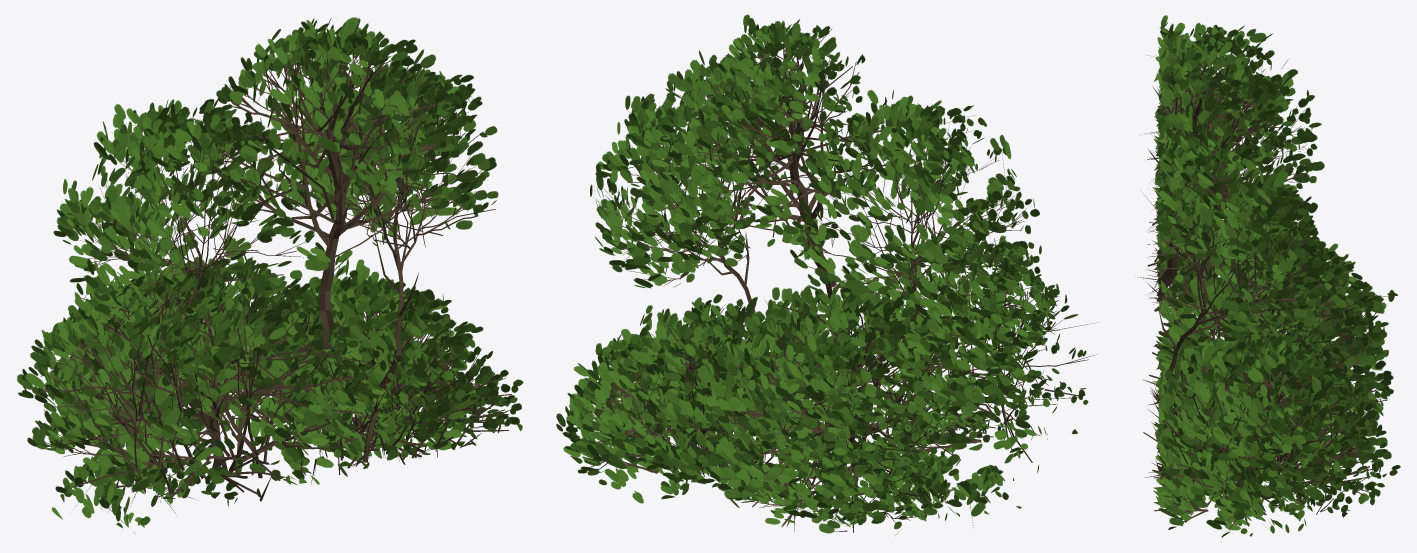
3 views of the same model, side by side, from view 1: azimuth 30°, elevation 25°; view 2: azimuth 150°, elevation 25°; view 3: azimuth 270°, elevation 25° (orthographic). The views are drawn at different scales.
Parts seen in each view (by area): view 1: oak 01.001_trunk_Mat.001_0.252; view 2: oak 01.001_trunk_Mat.001_0.252; view 3: oak 01.001_trunk_Mat.001_0.252.
Part boxes in pixels (box(x1,y1,x2,y2)): oak 01.001_trunk_Mat.001_0.252: box(17, 17, 523, 533); oak 01.001_trunk_Mat.001_0.252: box(556, 14, 1098, 535); oak 01.001_trunk_Mat.001_0.252: box(1138, 15, 1400, 537).
Size of the model in its own units: 3.56 by 3.13 by 1.78.
2 materials, 1 textured.
